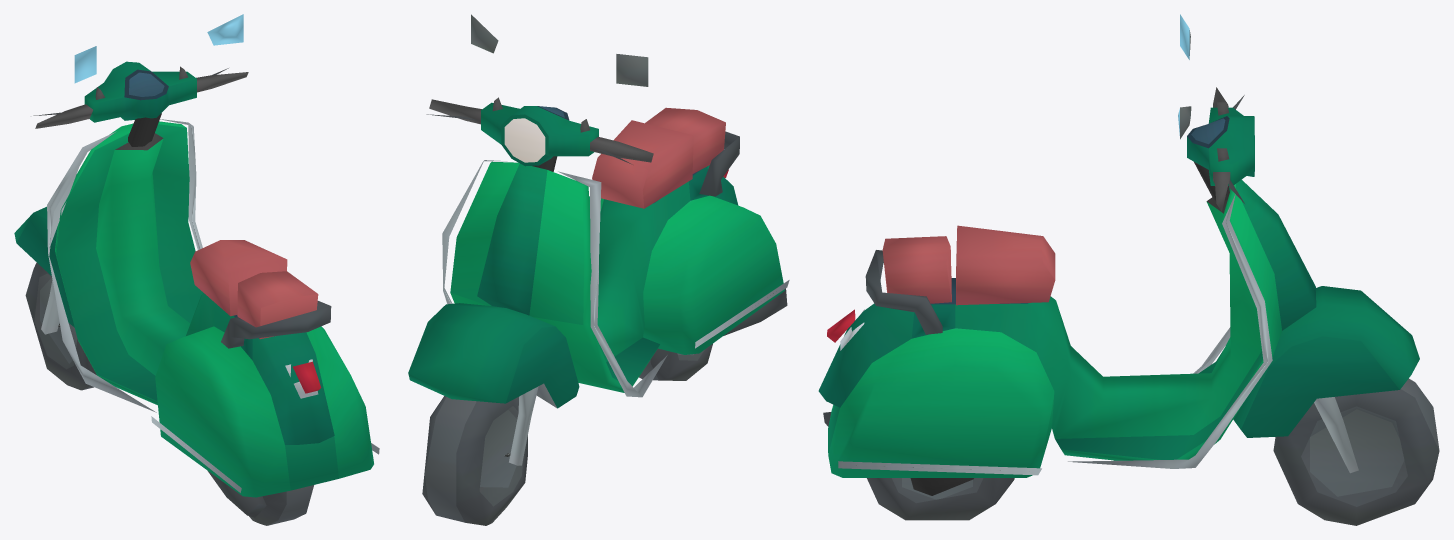
File: vn_scooter.glb
3 renders of one model, left to right at view 1: azimuth 30°, elevation 25°; view 2: azimuth 150°, elevation 25°; view 3: azimuth 270°, elevation 25°, orthographic. The views are drawn at different scales.
Parts seen in each view (by area): view 1: Motobike__11__IndiNestMat_v2_0; view 2: Motobike__11__IndiNestMat_v2_0; view 3: Motobike__11__IndiNestMat_v2_0.
Boxes of the visible parts, box(x1,y1,x2,y2) form: Motobike__11__IndiNestMat_v2_0: box(14, 14, 379, 525); Motobike__11__IndiNestMat_v2_0: box(408, 14, 789, 525); Motobike__11__IndiNestMat_v2_0: box(818, 14, 1439, 525).
Size of the model in its own units: 0.6213 by 1.13 by 1.39.
Materials: 1 (1 with a texture image).
